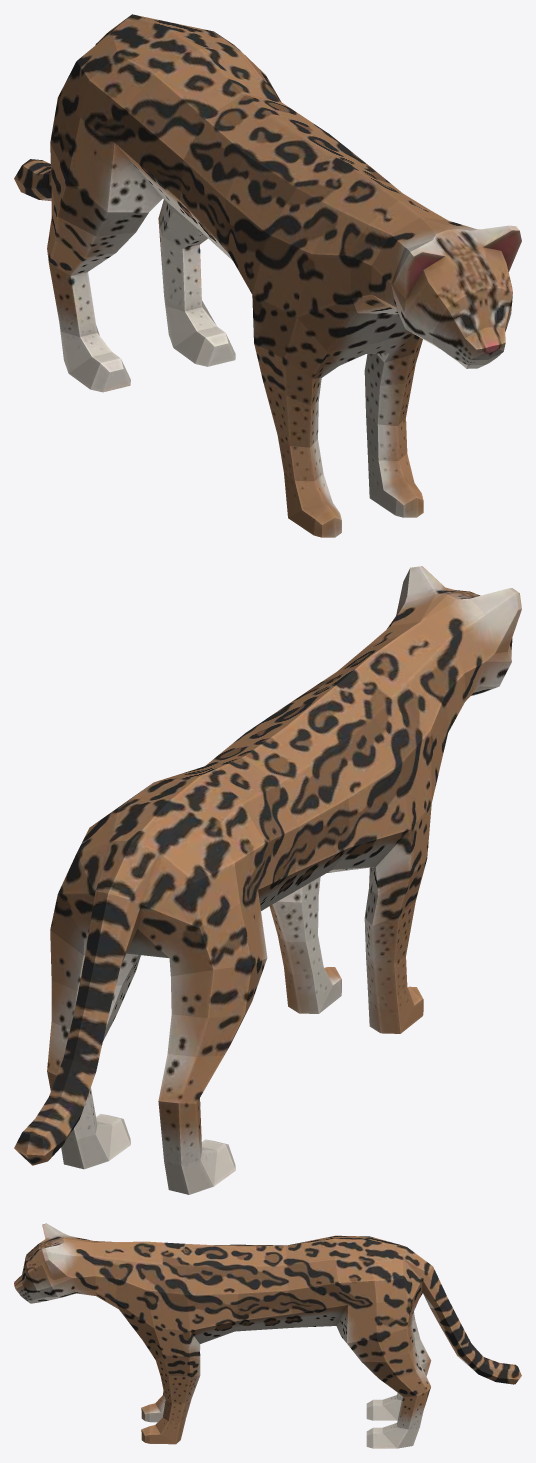
The model's file is 8KQ6ilys4oL.glb.
3 renders of one model, top to bottom at view 1: azimuth 30°, elevation 25°; view 2: azimuth 150°, elevation 25°; view 3: azimuth 270°, elevation 25°, orthographic. The views are drawn at different scales.
Parts seen in each view (by area): view 1: Ocelot_mesh; view 2: Ocelot_mesh; view 3: Ocelot_mesh.
Boxes of the visible parts, x1=… form: Ocelot_mesh: x1=14, y1=14, x2=521, y2=537; Ocelot_mesh: x1=14, y1=566, x2=521, y2=1194; Ocelot_mesh: x1=14, y1=1223, x2=521, y2=1448.
Bounding box in the file's own units: 0.5511 × 1 × 2.38.
1 material, 1 textured.
